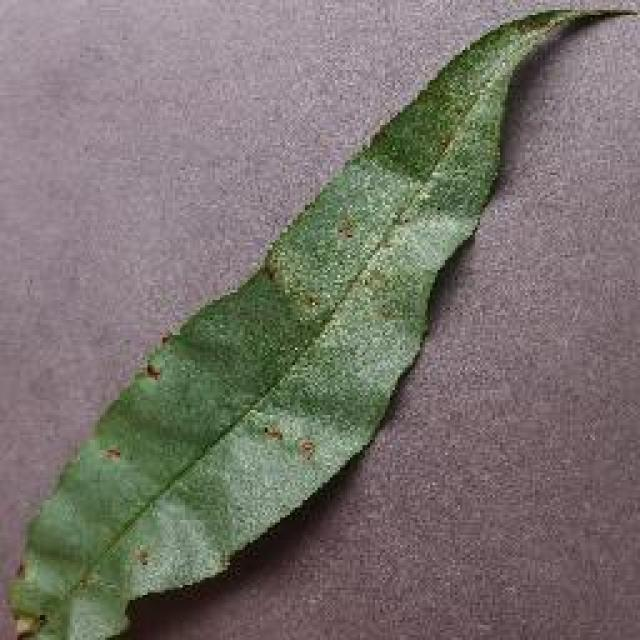Peach_Bacterial_Spot: (142, 237, 466, 545)
